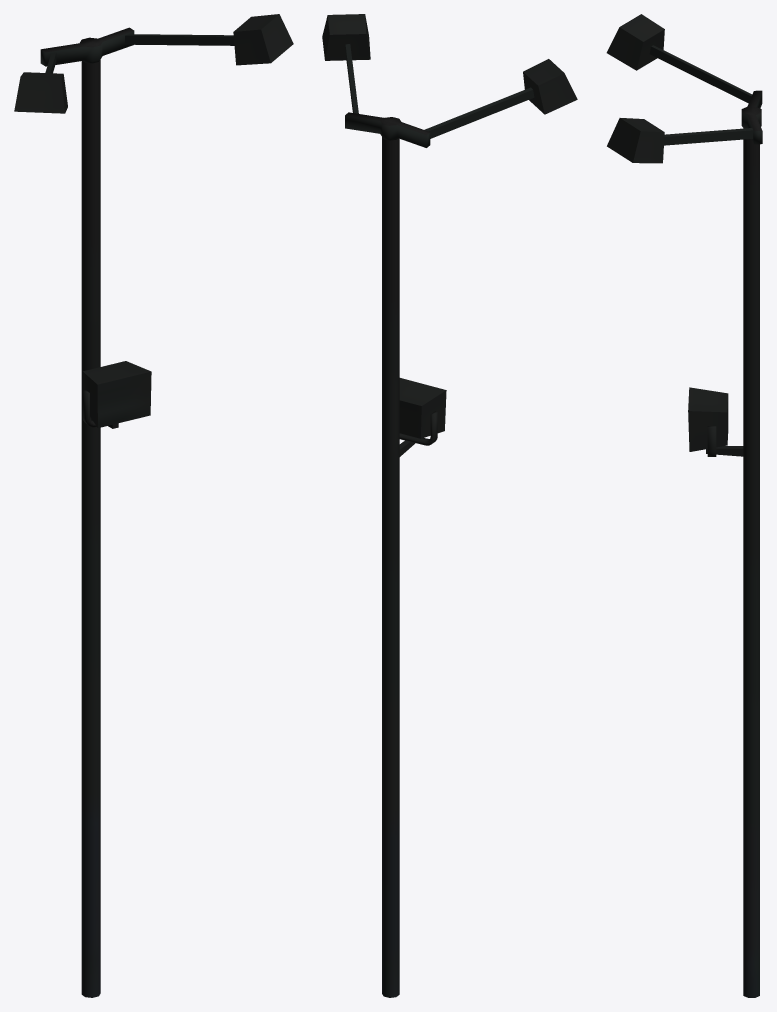
The model's file is Light-04.obj.
The picture shows the model from 3 angles, left to right: view 1: azimuth 30°, elevation 25°; view 2: azimuth 150°, elevation 25°; view 3: azimuth 270°, elevation 25°; orthographic projection. The views are drawn at different scales.
Visible parts, largest first — view 1: Light-01_Light-01.002; view 2: Light-01_Light-01.002; view 3: Light-01_Light-01.002.
Boxes of the visible parts, <box> form: Light-01_Light-01.002: <box>14,14,293,997</box>; Light-01_Light-01.002: <box>322,14,577,997</box>; Light-01_Light-01.002: <box>606,14,762,997</box>.
Bounding box in the file's own units: 2.5 × 8.48 × 1.3.
